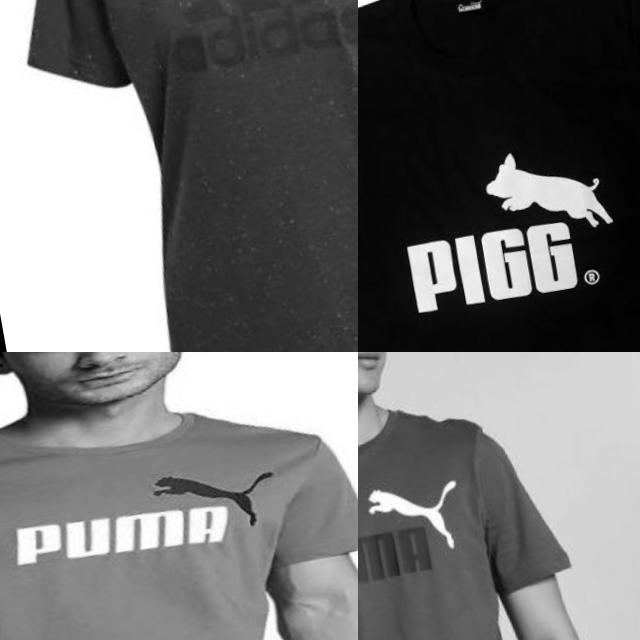ADIDAS_original: (140, 0, 358, 110)
PUMA_fake: (366, 114, 640, 352)
PUMA_original: (0, 452, 294, 596), (358, 458, 480, 607)
